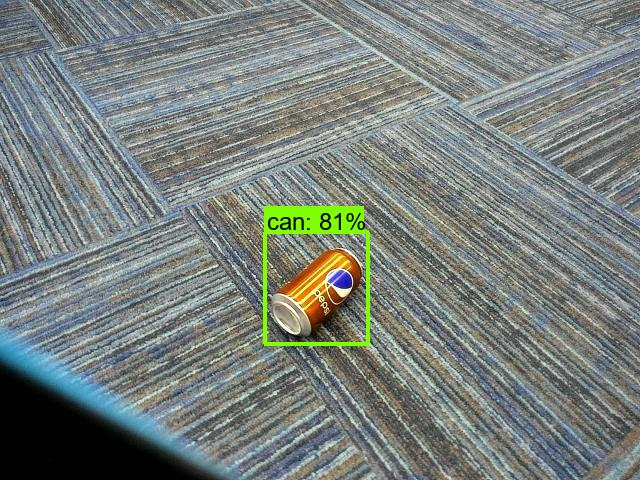can: (265, 237, 372, 337)
